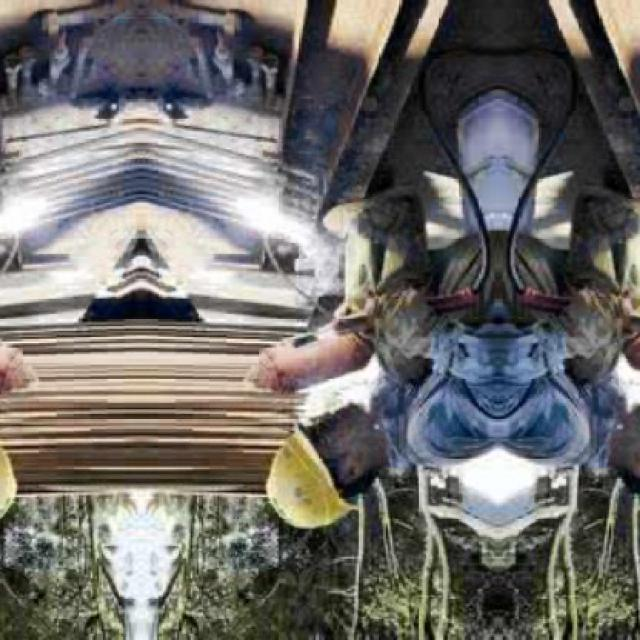con casco: (260, 428, 390, 543)
